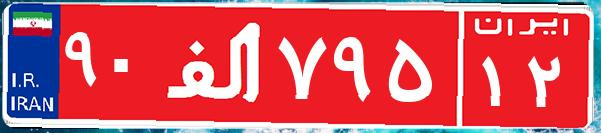0: (110, 28, 158, 105)
1: (475, 38, 525, 113)
2: (525, 38, 570, 115)
5: (385, 28, 445, 110)
7: (273, 28, 330, 110)
9: (330, 28, 385, 110), (57, 26, 110, 107)
الف: (158, 15, 273, 115)
